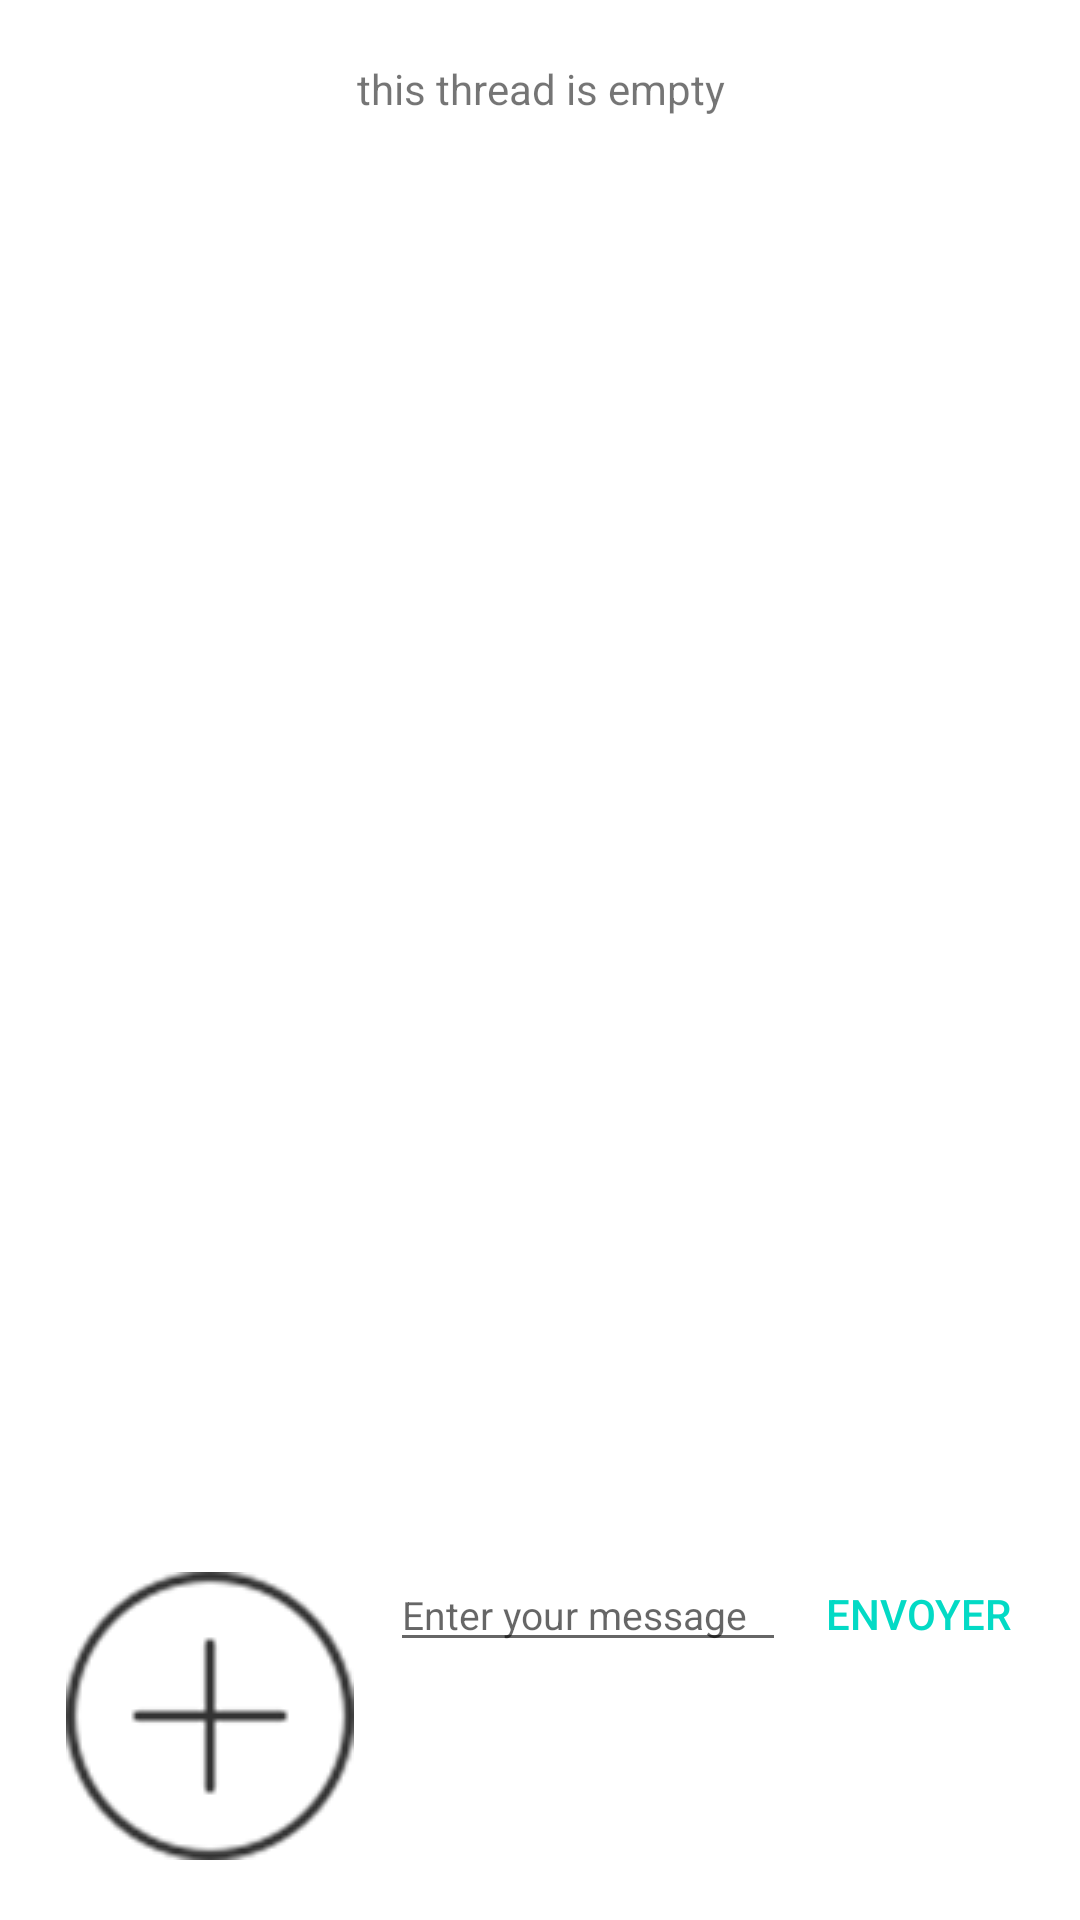

Named icons in this screenshot (1080*1920) and their bounding boxes, bbox=(x1, y1, x2, y2):
image add button: bbox=(66, 1572, 354, 1860)
